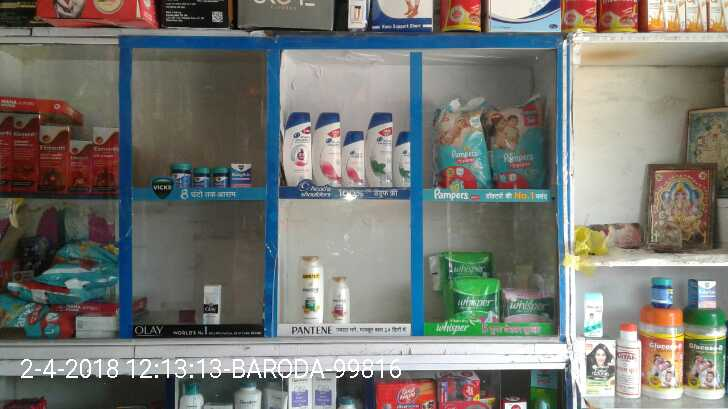vicks: (226, 161, 253, 186), (171, 159, 191, 188), (191, 164, 211, 188), (212, 165, 226, 189)
